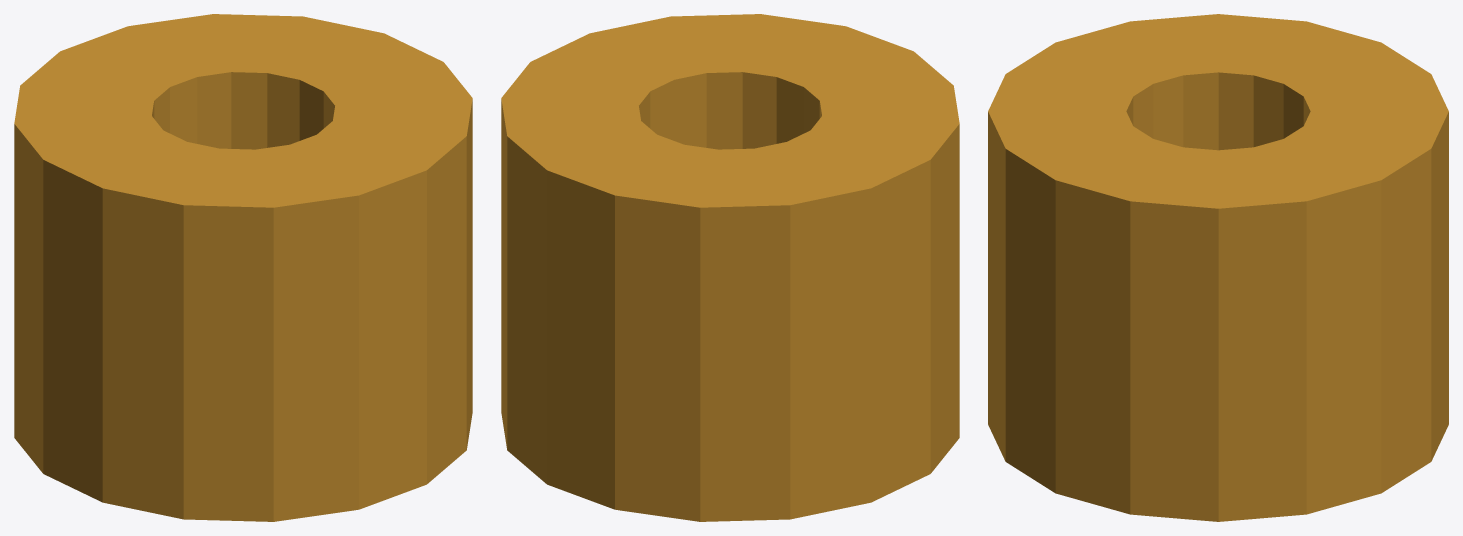
File: L131_M2_STANDOFF_02.fbx
The picture shows the model from 3 angles, left to right: view 1: azimuth 30°, elevation 25°; view 2: azimuth 150°, elevation 25°; view 3: azimuth 270°, elevation 25°; orthographic projection.
Parts seen in each view (by area): view 1: M2_STANDOFF_02_Gold; view 2: M2_STANDOFF_02_Gold; view 3: M2_STANDOFF_02_Gold.
Part boxes in pixels (x1=…): M2_STANDOFF_02_Gold: x1=14, y1=14, x2=472, y2=521; M2_STANDOFF_02_Gold: x1=501, y1=14, x2=959, y2=521; M2_STANDOFF_02_Gold: x1=988, y1=14, x2=1448, y2=521.
Bounding box in the file's own units: 0.4 × 0.3 × 0.4.
